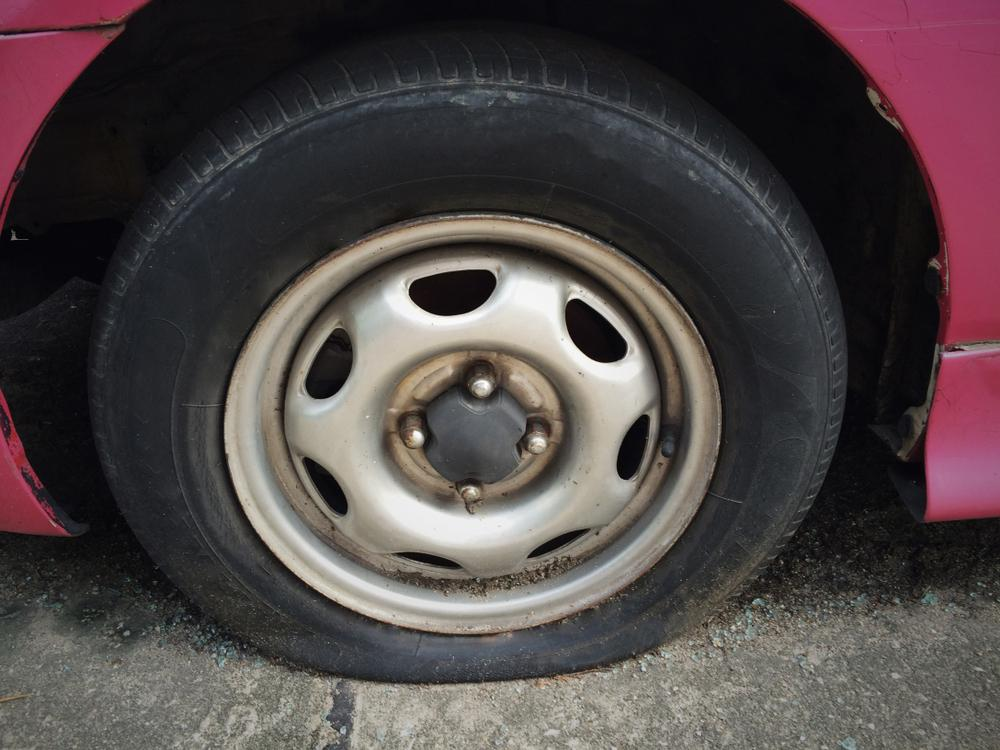tire flat: (83, 24, 850, 685)
